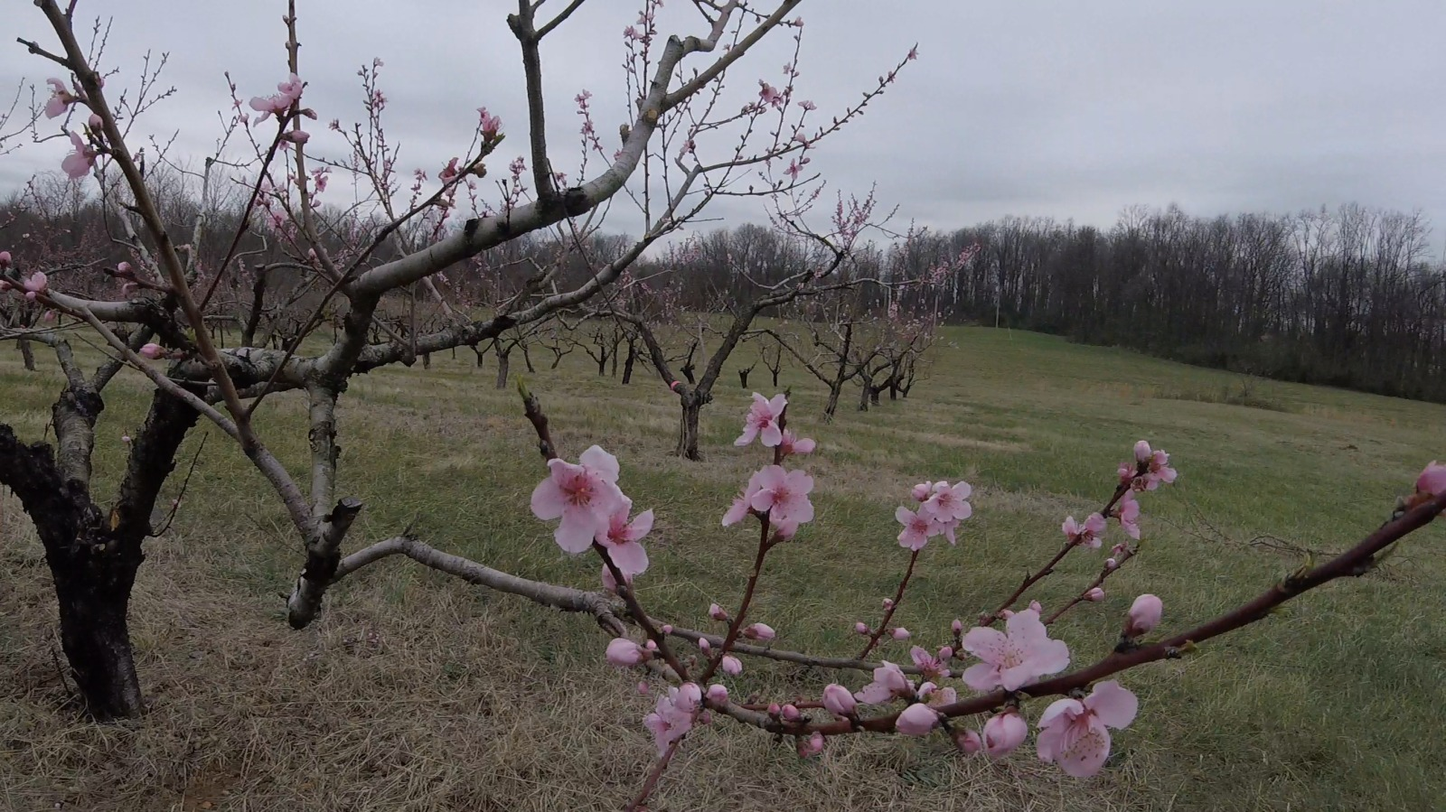flower: (531, 445, 655, 584), (797, 646, 956, 723), (1038, 679, 1139, 779), (962, 601, 1071, 693), (722, 465, 814, 537), (896, 481, 973, 552), (735, 393, 816, 454), (643, 683, 707, 760), (249, 69, 308, 128), (1134, 441, 1178, 492), (982, 714, 1028, 761), (61, 125, 99, 181), (34, 78, 75, 120), (896, 704, 947, 735), (606, 639, 650, 673), (1130, 594, 1164, 630), (1121, 490, 1141, 540), (1063, 513, 1106, 536), (1418, 461, 1446, 496), (759, 79, 786, 113), (784, 154, 811, 182), (308, 167, 329, 198), (477, 107, 502, 133), (263, 208, 289, 233), (139, 333, 163, 359), (438, 158, 460, 186), (24, 272, 48, 292), (705, 685, 730, 703), (751, 623, 775, 640), (723, 656, 743, 676), (1118, 462, 1139, 481), (290, 126, 311, 144), (603, 564, 617, 591), (89, 113, 104, 128), (745, 463, 757, 469), (763, 107, 767, 113)
